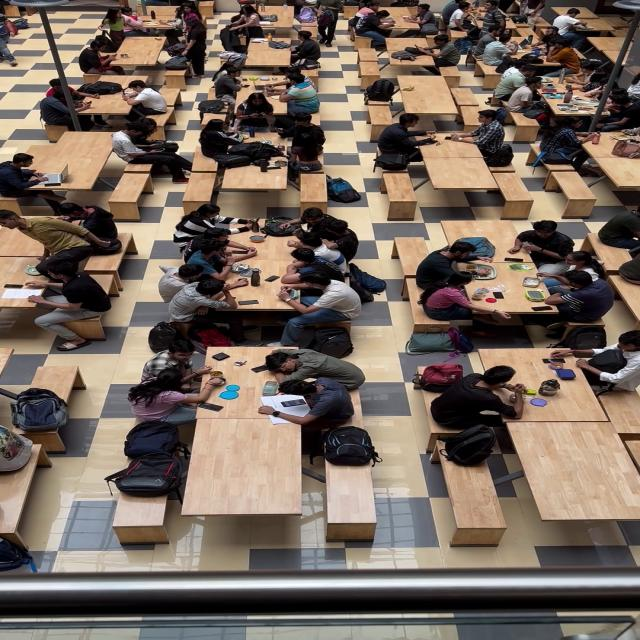Occupied: (169, 206, 375, 332), (412, 214, 616, 338), (210, 5, 354, 179), (474, 0, 640, 139), (151, 340, 362, 435), (4, 201, 141, 341), (437, 340, 640, 428), (88, 3, 218, 88), (40, 76, 185, 135), (0, 384, 86, 476), (384, 120, 506, 177), (121, 125, 204, 188), (0, 157, 90, 205), (133, 429, 191, 500), (360, 0, 458, 42), (537, 129, 640, 167), (316, 427, 398, 474), (435, 430, 511, 475), (398, 42, 472, 78), (614, 204, 640, 296), (0, 0, 31, 50), (364, 87, 416, 110)
Unoccupied: (198, 424, 311, 522), (528, 436, 640, 529), (326, 471, 389, 536), (451, 478, 517, 540), (431, 159, 506, 197), (552, 166, 606, 213), (404, 84, 464, 123), (22, 360, 94, 389), (0, 484, 33, 547), (60, 135, 125, 161), (388, 180, 430, 214), (226, 180, 294, 199), (119, 508, 168, 534), (308, 176, 338, 218), (506, 178, 541, 213), (119, 182, 153, 218), (194, 174, 220, 210), (364, 54, 384, 88), (376, 112, 400, 136)
